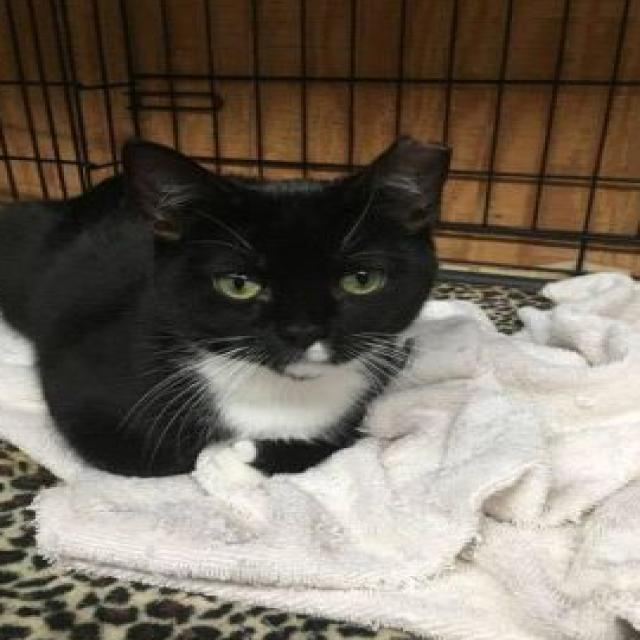Tuxedo: (0, 130, 460, 480)
